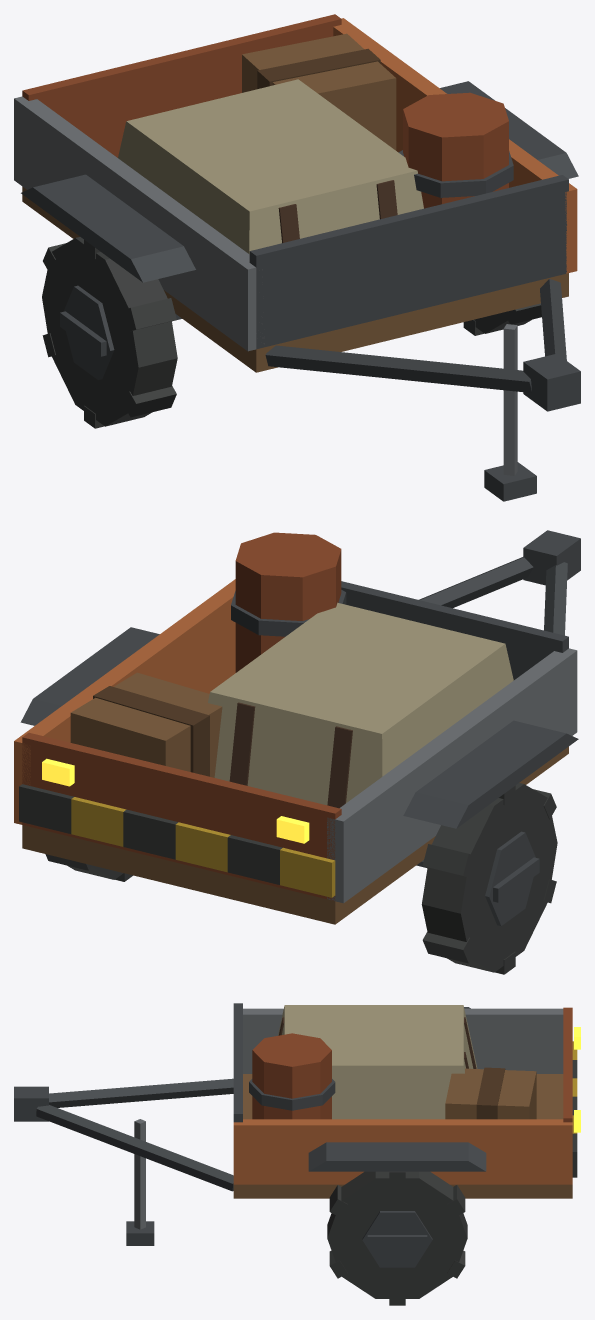
File: upg_trailer.glb
3 views of the same model, one above another, from view 1: azimuth 30°, elevation 25°; view 2: azimuth 150°, elevation 25°; view 3: azimuth 270°, elevation 25° (orthographic). The views are drawn at different scales.
Visible parts, largest first — view 1: body, wheel_r, wheel_l; view 2: body, wheel_r, wheel_l; view 3: body, wheel_l.
Boxes of the visible parts, bbox=[...] form: body: bbox=[14, 14, 580, 501]; wheel_r: bbox=[42, 237, 177, 428]; wheel_l: bbox=[463, 303, 541, 335]; body: bbox=[14, 530, 580, 924]; wheel_r: bbox=[421, 783, 557, 974]; wheel_l: bbox=[45, 854, 132, 881]; body: bbox=[14, 1003, 580, 1245]; wheel_l: bbox=[327, 1171, 467, 1305].
Size of the model in its own units: 1.57 by 0.995 by 2.43.
